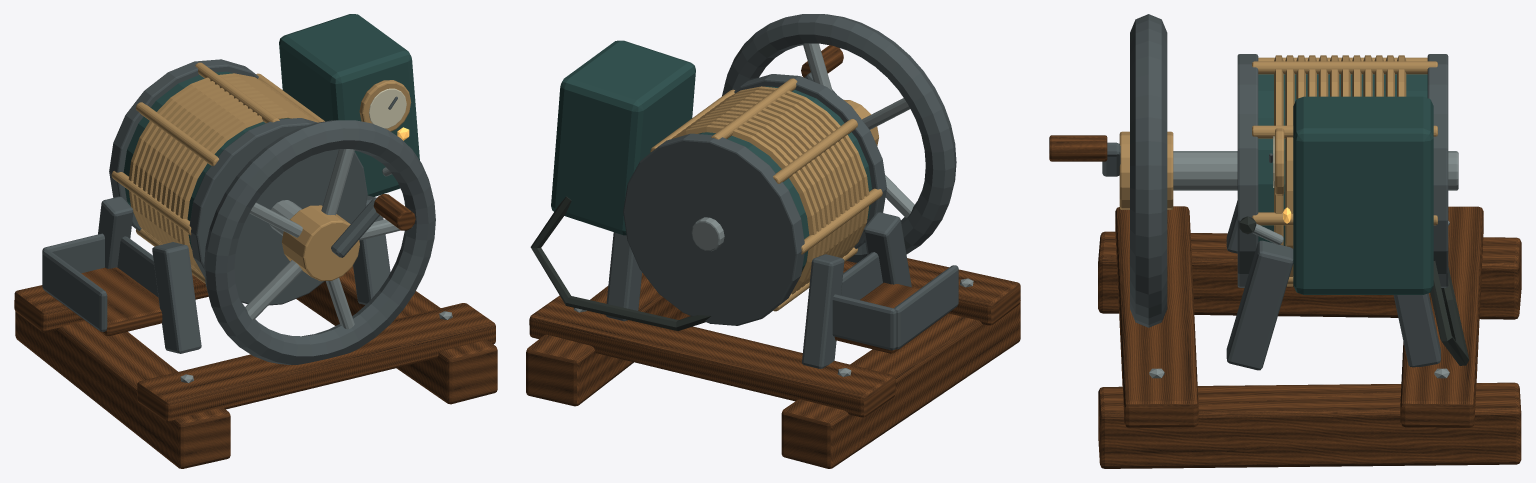
Rendered from generator.glb.
The picture shows the model from 3 angles, left to right: view 1: azimuth 30°, elevation 25°; view 2: azimuth 150°, elevation 25°; view 3: azimuth 270°, elevation 25°; orthographic projection. The views are drawn at different scales.
Parts seen in each view (by area): view 1: GEO-generator-iron, GEO-generator-brass, GEO-generator-Wood-dark, GEO-generator-Wood-warm, GEO-generator-teal, GEO-generator-rim, GEO-generator-Wood-grey, GEO-generator-ivory; view 2: GEO-generator-iron, GEO-generator-Wood-dark, GEO-generator-teal, GEO-generator-Wood-warm, GEO-generator-brass, GEO-generator-rim, GEO-generator-rubber, GEO-generator-Wood-grey; view 3: GEO-generator-Wood-dark, GEO-generator-teal, GEO-generator-iron, GEO-generator-Wood-warm, GEO-generator-brass, GEO-generator-rim, GEO-generator-rubber.
Boxes of the visible parts, bbox=[...] form: GEO-generator-iron: bbox=[42, 59, 435, 364]; GEO-generator-brass: bbox=[111, 62, 411, 283]; GEO-generator-Wood-dark: bbox=[15, 194, 497, 468]; GEO-generator-Wood-warm: bbox=[14, 274, 495, 422]; GEO-generator-teal: bbox=[123, 14, 419, 248]; GEO-generator-rim: bbox=[180, 149, 452, 383]; GEO-generator-Wood-grey: bbox=[49, 267, 162, 335]; GEO-generator-ivory: bbox=[369, 88, 406, 128]; GEO-generator-iron: bbox=[605, 14, 958, 368]; GEO-generator-Wood-dark: bbox=[526, 45, 1020, 468]; GEO-generator-teal: bbox=[551, 40, 871, 271]; GEO-generator-Wood-warm: bbox=[529, 258, 1020, 417]; GEO-generator-brass: bbox=[650, 78, 882, 311]; GEO-generator-rim: bbox=[573, 43, 973, 376]; GEO-generator-rubber: bbox=[530, 196, 710, 330]; GEO-generator-Wood-grey: bbox=[834, 282, 951, 353]; GEO-generator-Wood-dark: bbox=[1049, 135, 1521, 468]; GEO-generator-teal: bbox=[1258, 74, 1433, 294]; GEO-generator-iron: bbox=[1102, 14, 1448, 370]; GEO-generator-Wood-warm: bbox=[1115, 206, 1483, 427]; GEO-generator-brass: bbox=[1119, 55, 1437, 286]; GEO-generator-rim: bbox=[1149, 151, 1458, 378]; GEO-generator-rubber: bbox=[1239, 216, 1469, 365].
Bounding box in the file's own units: 1.15 × 0.935 × 1.14.
Materials: 10 (3 with a texture image).
